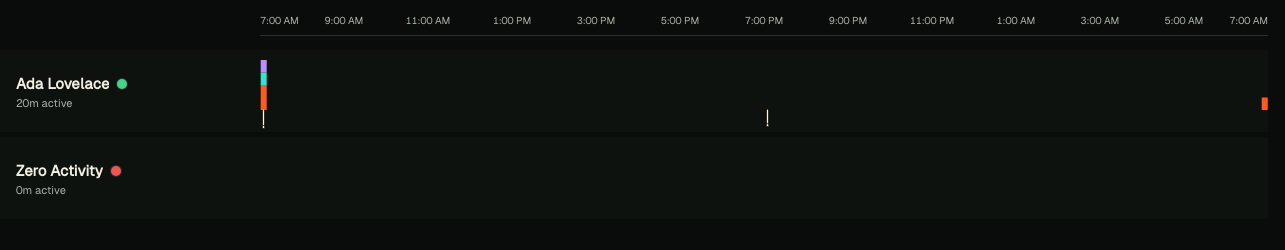
Test: FlameGraph › exposes the first bucket tooltip on keyboard focus and moves by bucket
Focus the icon named "Ada Lovelace activity timeline". click: coordinates (764, 91)
box: [260,50,1268,132]
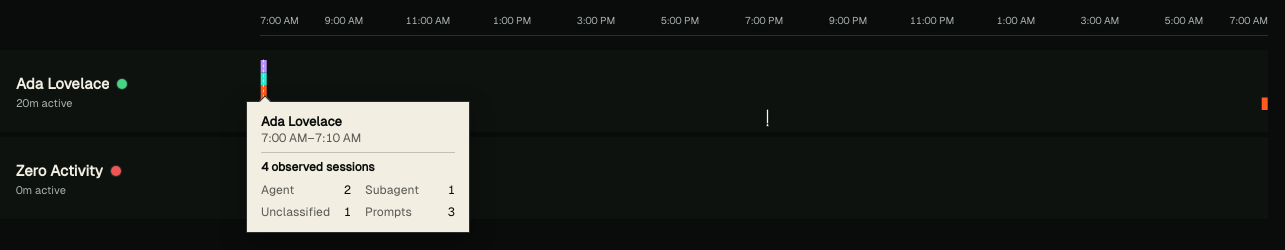
Expected: the message with class "flame-tooltip" shows "4 observed sessions", [261,160,375,174]
Press ArrowRight in the icon named "Ada Lovelace activity timeline", box [260,50,1268,132]
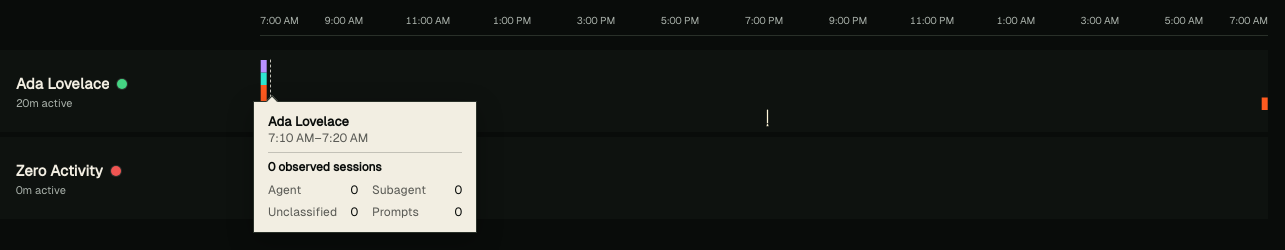
Expected: the message with class "flame-tooltip" shows "0 observed sessions", [268,160,382,174]
Expected: the message with class "flame-tooltip" shows "Prompts 0", [253,101,477,233]
Leave the icon named "Ada Lovelace activity timeline", box [260,50,1268,132]
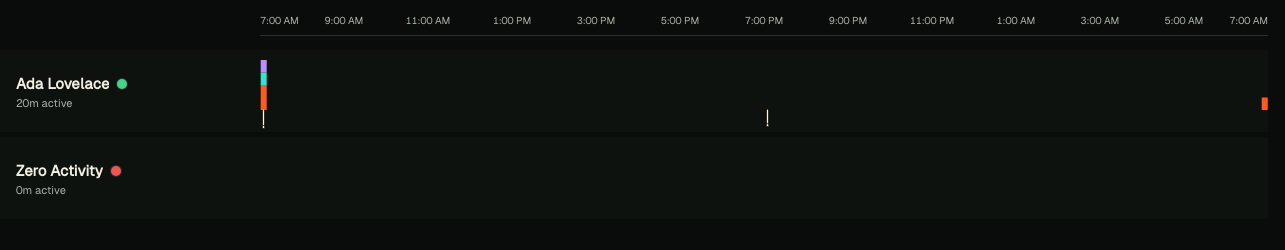
Expected: the message with class "flame-tooltip" is gone
